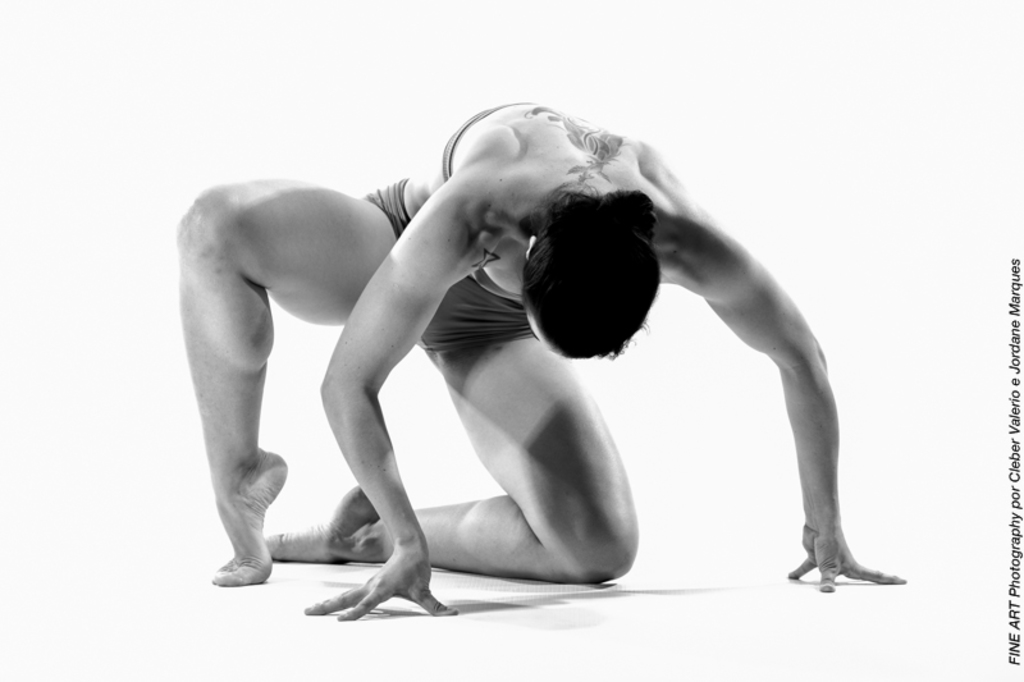Human_hand: (303, 541, 459, 621), (786, 526, 907, 591)
